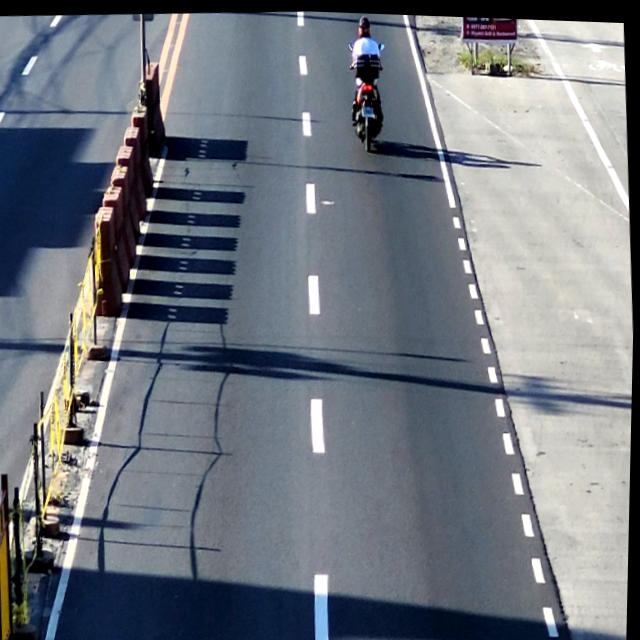Motorcycle: (345, 10, 392, 144)
